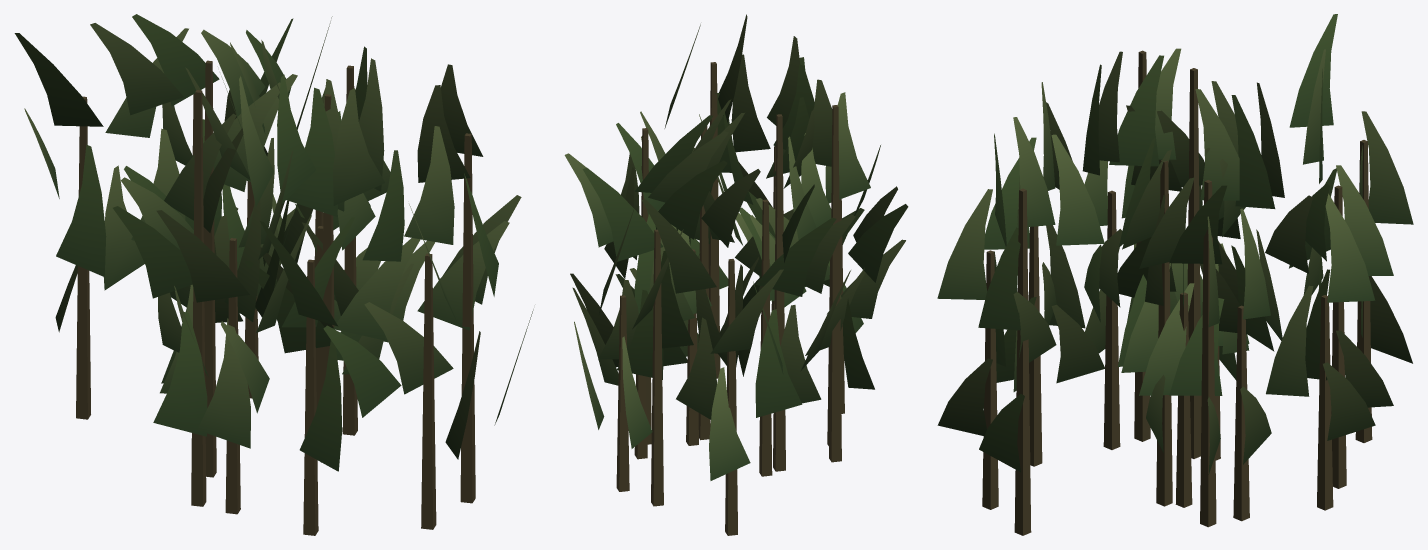
Rendered from shrub.glb.
3 views of the same model, side by side, from view 1: azimuth 30°, elevation 25°; view 2: azimuth 150°, elevation 25°; view 3: azimuth 270°, elevation 25° (orthographic). The views are drawn at different scales.
Parts seen in each view (by area): view 1: part_0; view 2: part_0; view 3: part_0.
Boxes of the visible parts, x1=… form: part_0: x1=14, y1=14, x2=533, y2=535; part_0: x1=564, y1=14, x2=908, y2=535; part_0: x1=937, y1=14, x2=1413, y2=535.
Size of the model in its own units: 0.8057 by 0.9179 by 0.9833.
